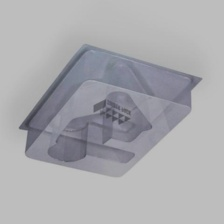plastic_box: (11, 39, 208, 184)
